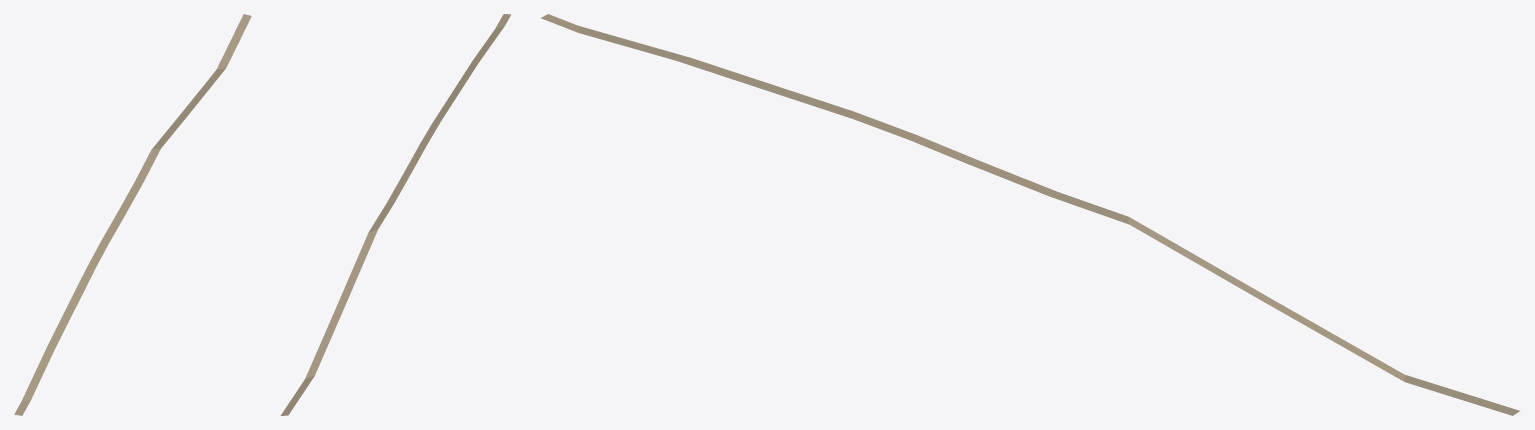
File: farm_-25_-20_track.glb
The picture shows the model from 3 angles, left to right: view 1: azimuth 30°, elevation 25°; view 2: azimuth 210°, elevation 25°; view 3: azimuth 270°, elevation 25°; orthographic projection. The views are drawn at different scales.
Parts seen in each view (by area): view 1: geometry_0; view 2: geometry_0; view 3: geometry_0.
Boxes of the visible parts, box(x1,y1,x2,y2) form: geometry_0: box(14, 14, 251, 415); geometry_0: box(280, 14, 511, 415); geometry_0: box(541, 14, 1519, 415).
Bounding box in the file's own units: 270 × 15.52 × 285.
